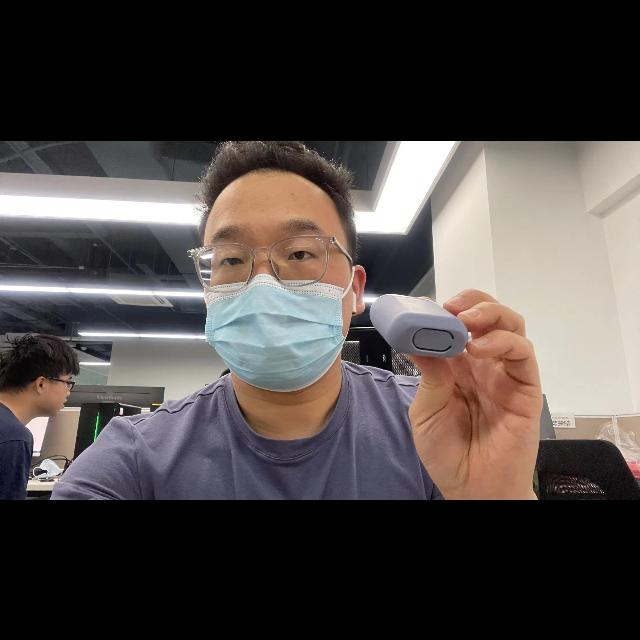airpods: (369, 293, 466, 357)
